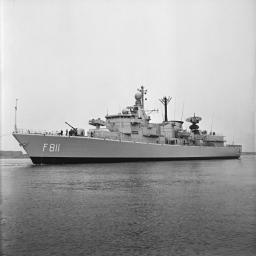Fragata: (12, 68, 245, 167)
